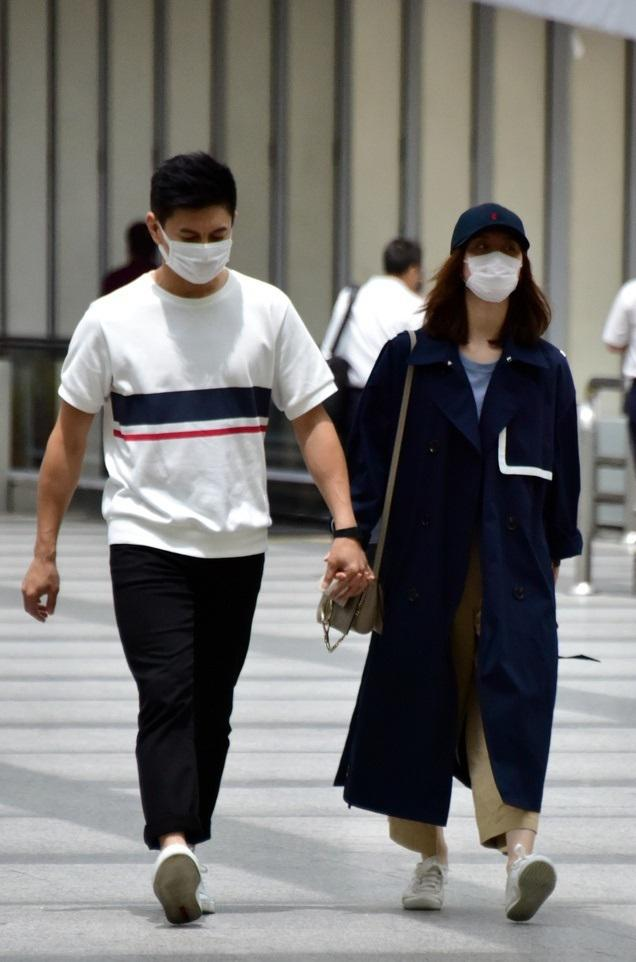OK: (170, 217, 233, 285), (467, 234, 523, 301)
